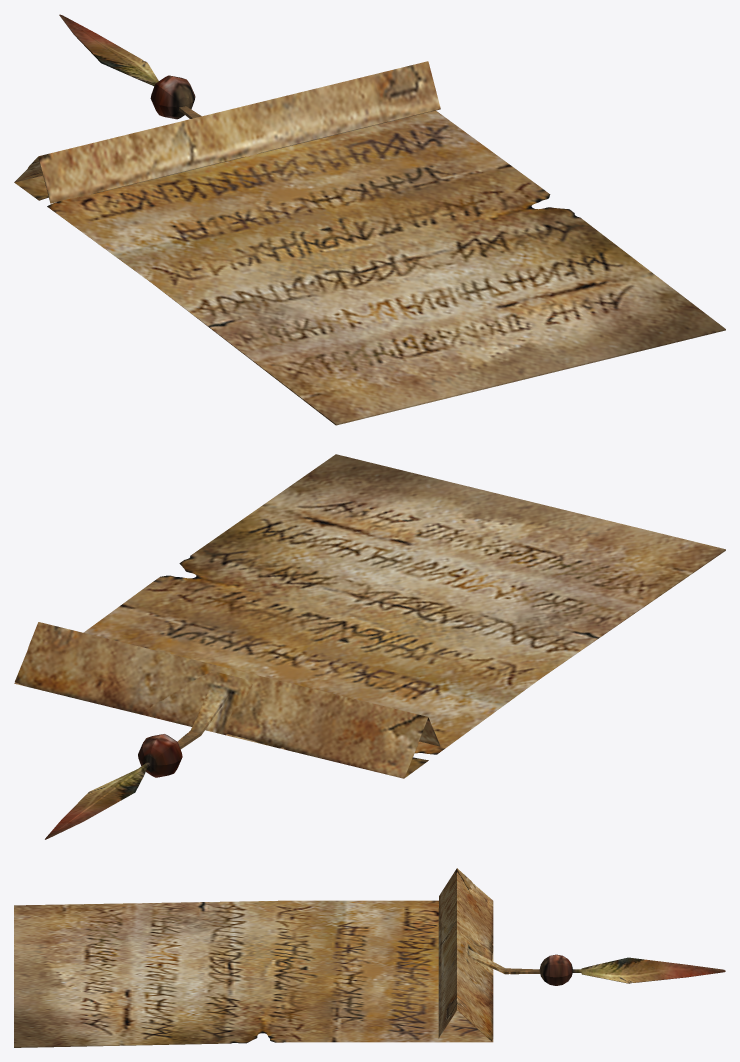
File: paperrrrr.fbx
3 renders of one model, top to bottom at view 1: azimuth 30°, elevation 25°; view 2: azimuth 150°, elevation 25°; view 3: azimuth 270°, elevation 25°, orthographic. The views are drawn at different scales.
Parts seen in each view (by area): view 1: pCube1, pCylinder1, pSphere1; view 2: pCube1, pCylinder1, pSphere1; view 3: pCube1, pCylinder1, pSphere1.
Boxes of the visible parts, x1,y1,x2,y2 form: pCube1: (14, 61, 725, 425); pCylinder1: (59, 14, 158, 86); pSphere1: (150, 75, 195, 119); pCube1: (14, 454, 725, 778); pCylinder1: (45, 762, 150, 839); pSphere1: (138, 734, 182, 777); pCube1: (14, 868, 540, 1047); pCylinder1: (572, 957, 725, 983); pSphere1: (539, 954, 572, 985).
Bounding box in the file's own units: 8.01 × 1.17 × 17.02.
1 material, 1 textured.
